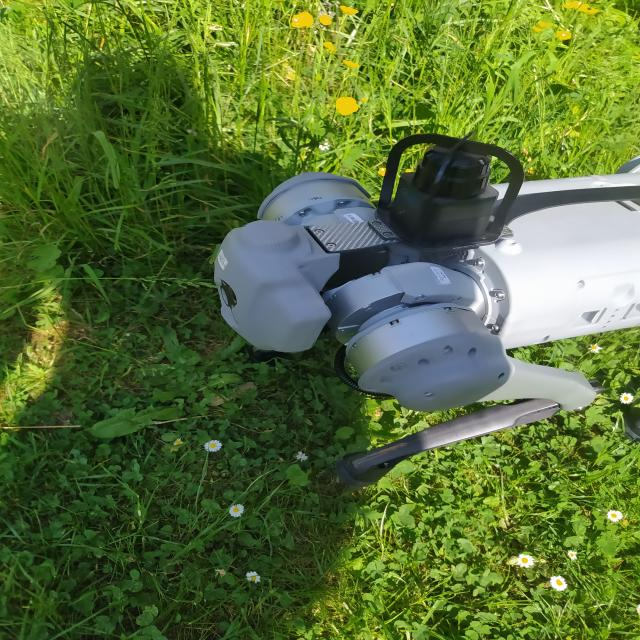unitree-go1-robot: (193, 124, 640, 497)
